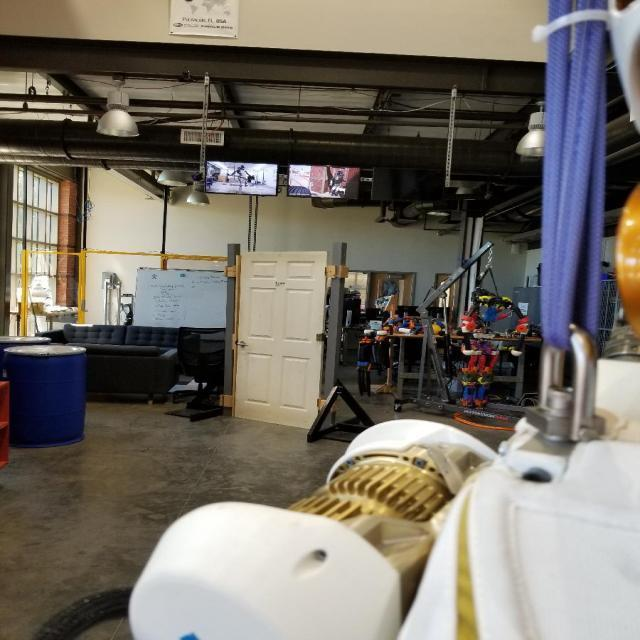door: (232, 250, 331, 432), (234, 338, 248, 350)
